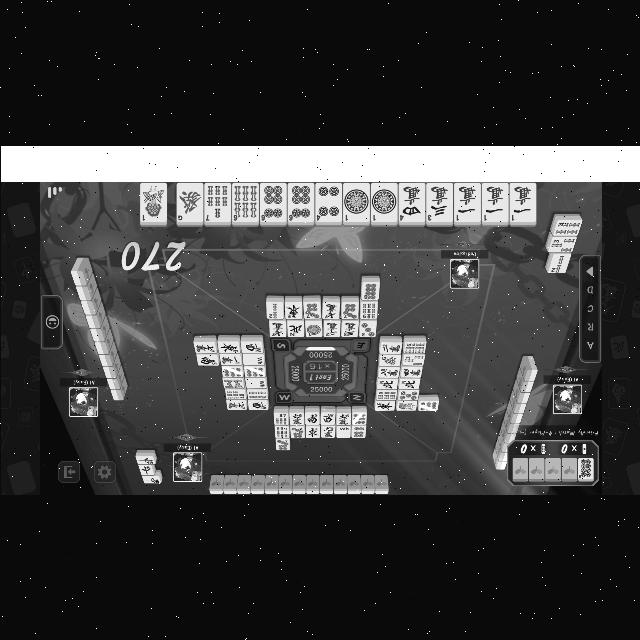1m: (452, 183, 480, 223), (508, 183, 536, 221), (481, 182, 507, 222), (220, 354, 240, 364)
1p: (370, 184, 396, 222), (344, 182, 366, 222), (306, 322, 320, 336)
1s: (138, 186, 168, 222), (396, 402, 414, 412)
2m: (380, 341, 400, 354), (323, 320, 339, 336)
2s: (548, 253, 570, 273), (266, 300, 282, 318)
3m: (425, 182, 451, 222), (342, 321, 356, 337)
3p: (358, 320, 374, 338)
3s: (548, 234, 574, 252), (402, 356, 423, 366)
4m: (397, 184, 423, 222), (401, 368, 419, 378)
4p: (314, 184, 342, 223)
4s: (553, 218, 579, 235), (246, 389, 266, 398)
5p: (397, 390, 417, 400), (274, 439, 290, 451)
6m: (288, 412, 304, 424), (336, 413, 349, 425)
6p: (286, 184, 312, 222), (260, 183, 284, 221), (404, 341, 424, 353), (350, 424, 364, 438)
6s: (232, 184, 255, 223)
7m: (321, 302, 339, 320), (267, 320, 285, 338), (190, 342, 216, 352), (225, 400, 245, 410)
7p: (302, 300, 320, 318), (339, 300, 356, 318), (290, 426, 302, 439)
7s: (204, 183, 228, 221), (225, 389, 245, 399), (274, 412, 286, 424)
8m: (377, 367, 398, 379)
8p: (359, 282, 378, 300), (577, 458, 591, 478)
8s: (219, 379, 243, 389)
9m: (320, 426, 334, 438)
9p: (220, 368, 242, 378), (243, 366, 265, 376), (350, 412, 366, 424), (418, 401, 437, 411)
9s: (359, 300, 376, 318), (375, 390, 395, 400), (274, 426, 288, 438)
chun: (142, 476, 160, 484), (138, 464, 152, 474), (135, 458, 155, 464)
haku: (243, 378, 267, 388), (240, 354, 264, 364), (336, 427, 348, 438)
hatsu: (176, 182, 200, 222), (378, 354, 399, 366)
nan: (195, 354, 218, 366), (302, 412, 318, 424)
pe: (288, 321, 302, 337), (398, 379, 418, 389), (376, 379, 396, 389)
sha: (241, 341, 261, 353), (246, 400, 268, 410), (320, 412, 334, 424)
tou: (283, 302, 301, 318), (216, 341, 238, 352), (374, 401, 394, 412), (303, 425, 319, 437)
